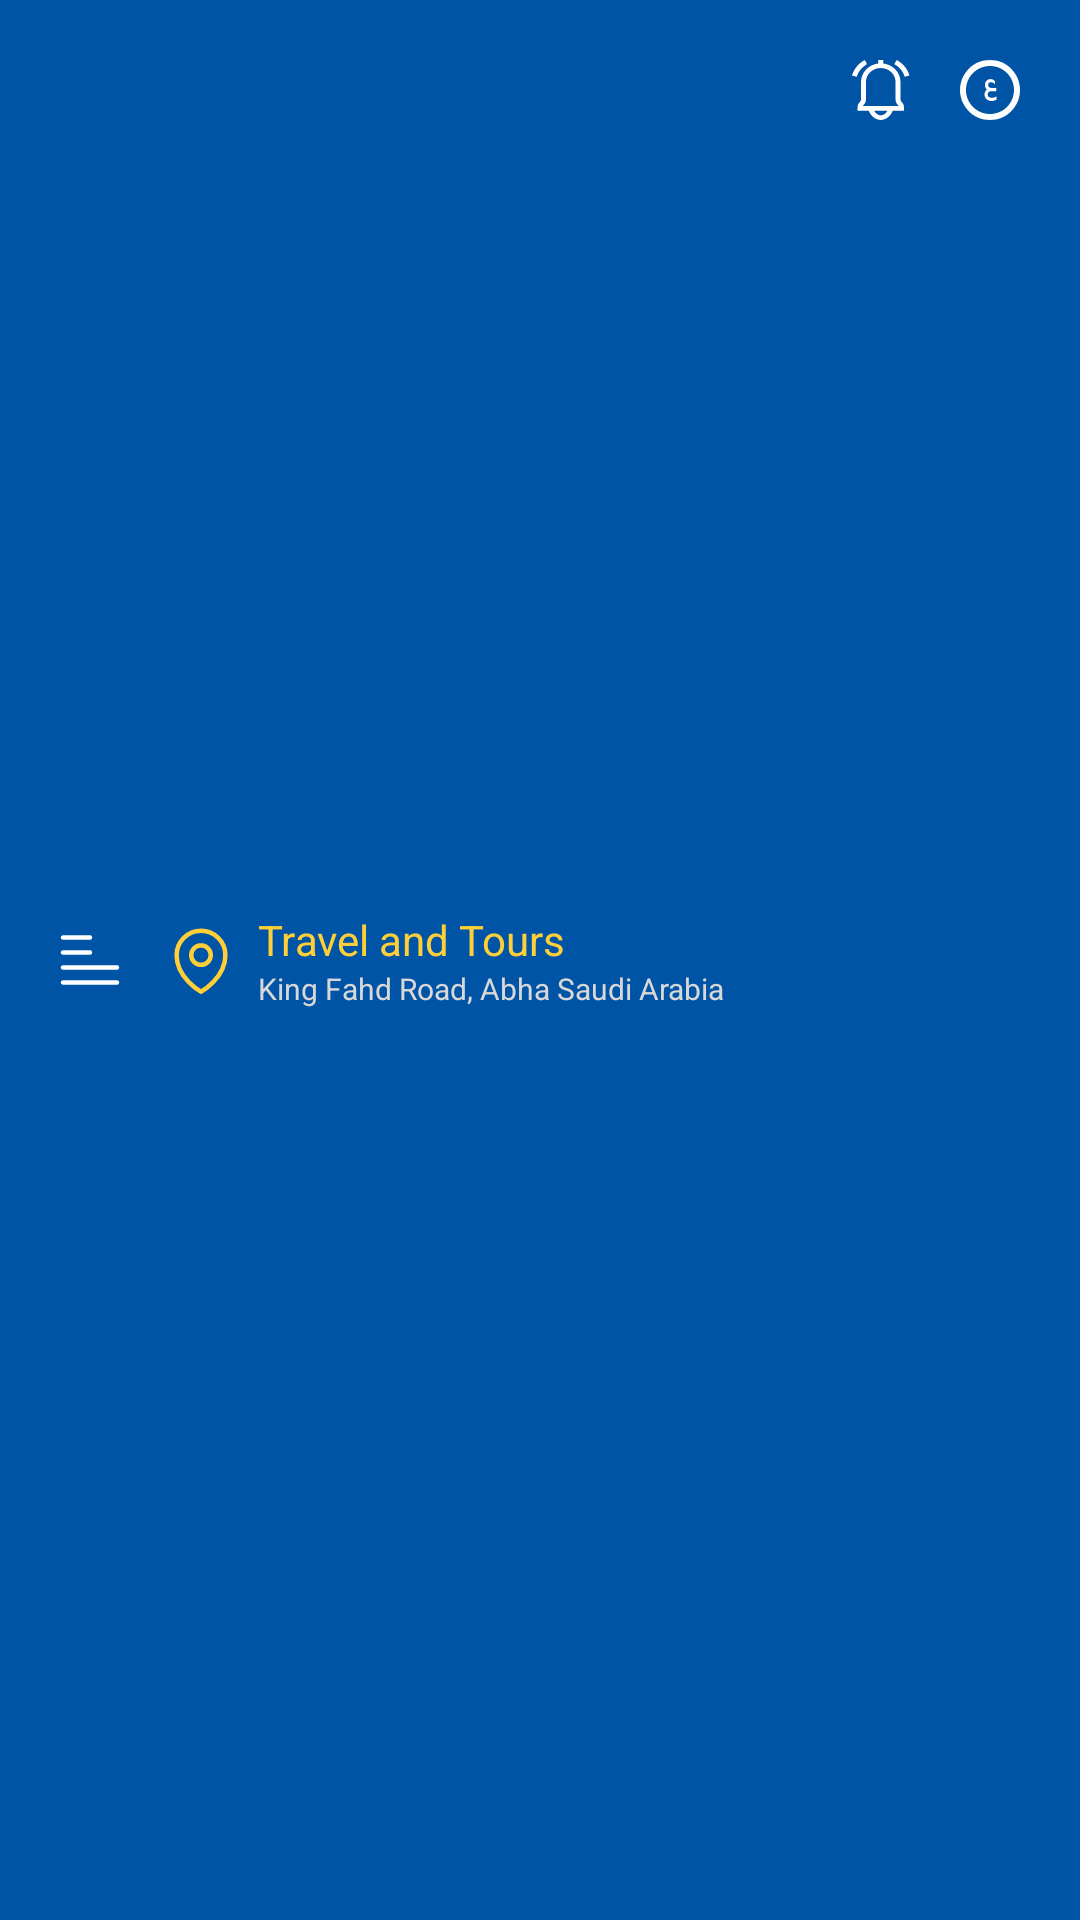

Icons on this 1080 x 1920 Android screen, each with the point to tap as (x,y):
epsilon: (990,90)
hamburger: (90,960)
location pin: (201,961)
notification: (881,90)
